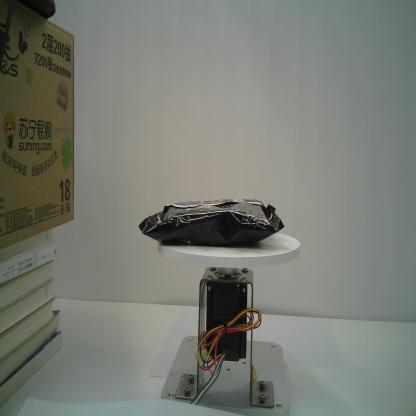Instant Noodles: (137, 196, 285, 247)
